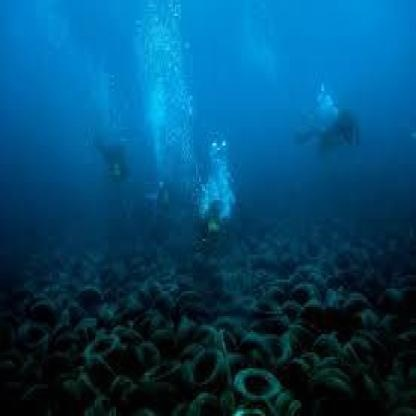tire: (69, 330, 127, 380), (223, 359, 280, 405), (184, 344, 234, 386)
